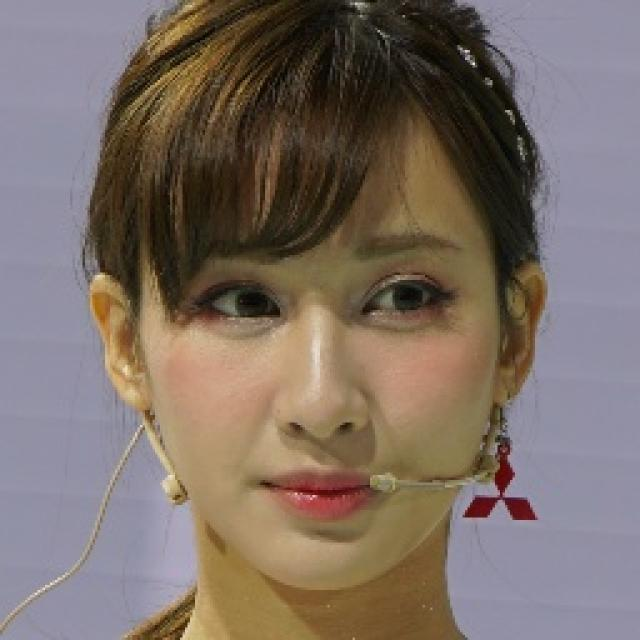earlobe: (88, 273, 154, 413), (490, 261, 550, 405)
